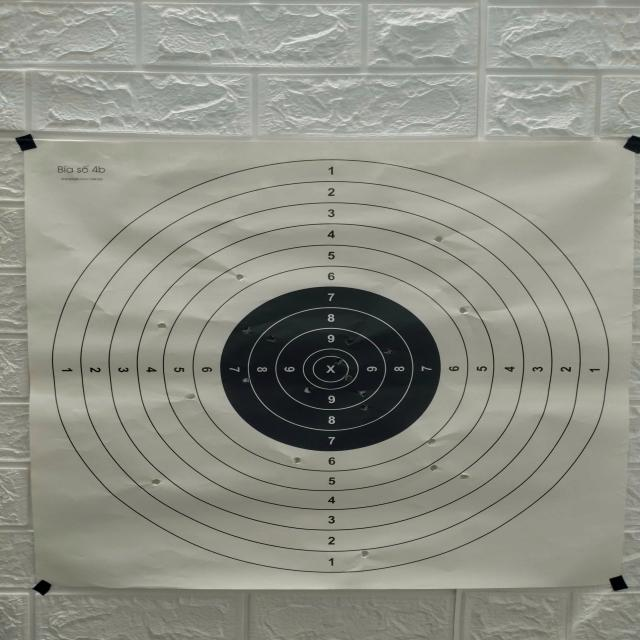bullet: (233, 271, 244, 281), (335, 358, 345, 366), (242, 326, 252, 334), (427, 438, 437, 446), (434, 235, 444, 243), (459, 306, 468, 314), (358, 390, 367, 398), (460, 472, 469, 480), (266, 335, 276, 342), (151, 479, 161, 486), (360, 403, 368, 411), (361, 550, 369, 558), (343, 374, 352, 381), (382, 348, 392, 354), (185, 394, 195, 400), (430, 464, 438, 471), (157, 323, 166, 329), (294, 457, 301, 464), (242, 378, 250, 383), (346, 338, 352, 344), (304, 387, 310, 393)
target: (25, 142, 633, 590)
